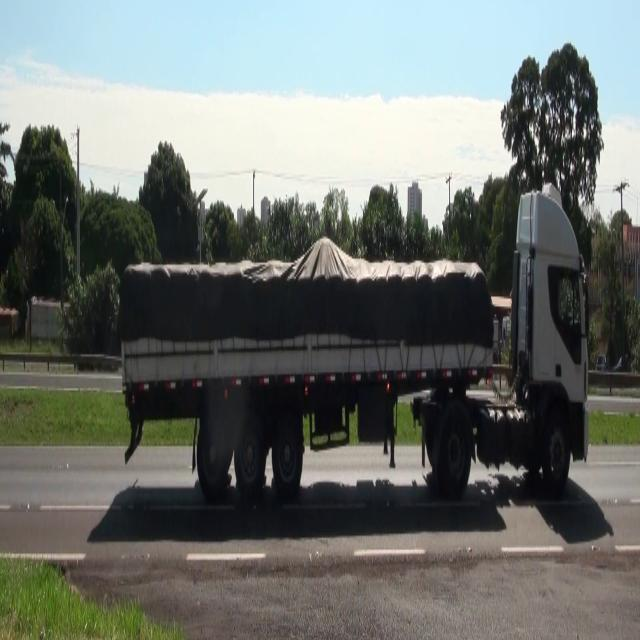-axle: (270, 403, 306, 497), (441, 407, 476, 497), (196, 413, 228, 507), (540, 408, 573, 498), (234, 413, 266, 497)
